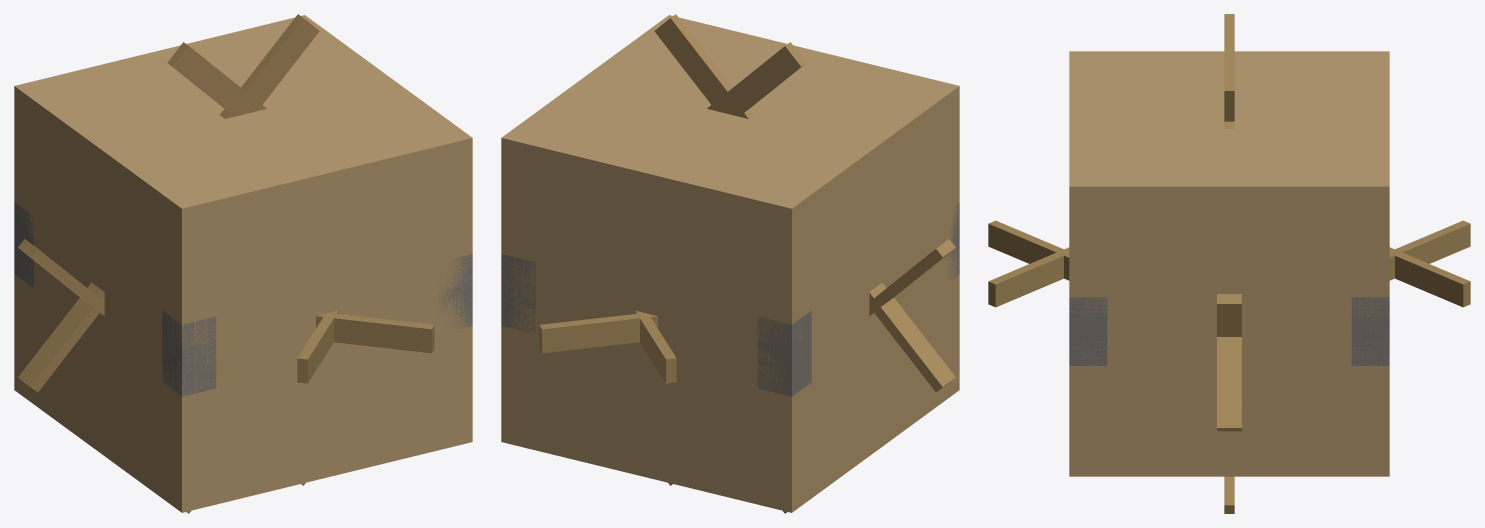
Rendered from crate.glb.
The picture shows the model from 3 angles, left to right: view 1: azimuth 30°, elevation 25°; view 2: azimuth 150°, elevation 25°; view 3: azimuth 270°, elevation 25°; orthographic projection. The views are drawn at different scales.
Visible parts, largest first — view 1: Crate_Body.001, Crate_Brace_NY_-1.001, Crate_Brace_PZ_1.001, Crate_Brace_NX_-1.001, Crate_Brace_PZ_-1.001, Crate_Brace_NY_1.001, Crate_Brace_NX_1.001, Crate_BkY_-1-1-1.001, Crate_BkX_-1-1-1.001, Crate_BkX_-1-11.001, Crate_BkY_-1-11.001, Crate_BkY_1-11.001 (+3 smaller); view 2: Crate_Body.001, Crate_Brace_PY_-1.001, Crate_Brace_PZ_1.001, Crate_Brace_NX_-1.001, Crate_Brace_PZ_-1.001, Crate_Brace_PY_1.001, Crate_BkY_-111.001, Crate_BkY_-11-1.001, Crate_Brace_NX_1.001, Crate_BkX_-11-1.001, Crate_BkX_-111.001, Crate_BkY_11-1.001 (+1 smaller); view 3: Crate_Body.001, Crate_Brace_PX_-1.001, Crate_Brace_NY_-1.001, Crate_Brace_PY_-1.001, Crate_Brace_NY_1.001, Crate_Brace_PY_1.001, Crate_BkX_1-1-1.001, Crate_BkX_1-11.001, Crate_BkX_11-1.001, Crate_BkX_111.001, Crate_Brace_PX_1.001, Crate_Brace_PZ_-1.001 (+1 smaller).
Part boxes in pixels (x1=…): Crate_Body.001: x1=14, y1=15, x2=472, y2=512; Crate_Brace_NY_-1.001: x1=316, y1=313, x2=434, y2=353; Crate_Brace_PZ_1.001: x1=220, y1=14, x2=319, y2=118; Crate_Brace_NX_-1.001: x1=18, y1=282, x2=104, y2=392; Crate_Brace_PZ_-1.001: x1=167, y1=42, x2=266, y2=116; Crate_Brace_NY_1.001: x1=297, y1=310, x2=338, y2=383; Crate_Brace_NX_1.001: x1=18, y1=239, x2=104, y2=315; Crate_BkY_-1-1-1.001: x1=175, y1=352, x2=216, y2=395; Crate_BkX_-1-1-1.001: x1=162, y1=346, x2=193, y2=396; Crate_BkX_-1-11.001: x1=162, y1=310, x2=193, y2=360; Crate_BkY_-1-11.001: x1=176, y1=317, x2=216, y2=359; Crate_BkY_1-11.001: x1=438, y1=254, x2=472, y2=297; Crate_Body.001: x1=501, y1=15, x2=959, y2=512; Crate_Brace_PY_-1.001: x1=539, y1=314, x2=657, y2=353; Crate_Brace_PZ_1.001: x1=654, y1=14, x2=753, y2=118; Crate_Brace_NX_-1.001: x1=869, y1=282, x2=955, y2=392; Crate_Brace_PZ_-1.001: x1=707, y1=42, x2=806, y2=116; Crate_Brace_PY_1.001: x1=635, y1=310, x2=676, y2=383; Crate_BkY_-111.001: x1=757, y1=316, x2=798, y2=360; Crate_BkY_-11-1.001: x1=757, y1=353, x2=798, y2=396; Crate_Brace_NX_1.001: x1=869, y1=239, x2=955, y2=315; Crate_BkX_-11-1.001: x1=780, y1=346, x2=811, y2=396; Crate_BkX_-111.001: x1=780, y1=310, x2=811, y2=360; Crate_BkY_11-1.001: x1=501, y1=290, x2=535, y2=333; Crate_Body.001: x1=1069, y1=51, x2=1389, y2=476; Crate_Brace_PX_-1.001: x1=1217, y1=337, x2=1241, y2=431; Crate_Brace_NY_-1.001: x1=988, y1=247, x2=1069, y2=307; Crate_Brace_PY_-1.001: x1=1389, y1=247, x2=1470, y2=307; Crate_Brace_NY_1.001: x1=988, y1=220, x2=1069, y2=280; Crate_Brace_PY_1.001: x1=1389, y1=220, x2=1470, y2=280; Crate_BkX_1-1-1.001: x1=1069, y1=331, x2=1107, y2=365; Crate_BkX_1-11.001: x1=1069, y1=297, x2=1107, y2=331; Crate_BkX_11-1.001: x1=1351, y1=331, x2=1389, y2=365; Crate_BkX_111.001: x1=1351, y1=297, x2=1389, y2=331; Crate_Brace_PX_1.001: x1=1217, y1=294, x2=1241, y2=336; Crate_Brace_PZ_-1.001: x1=1224, y1=14, x2=1234, y2=128.
Size of the model in its own units: 0.973 by 0.994 by 0.973.
